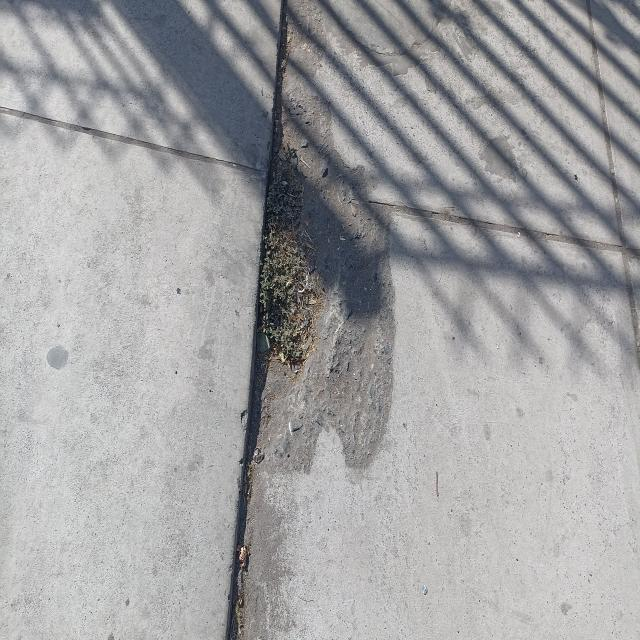hole: (249, 126, 398, 484)
